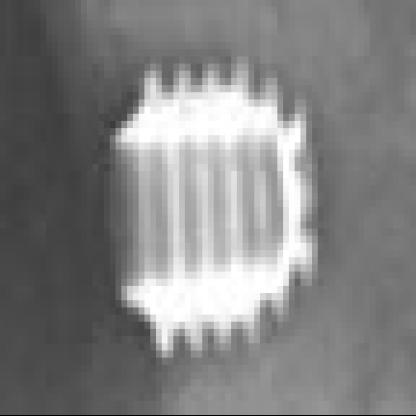Bicon: (112, 67, 316, 362)
